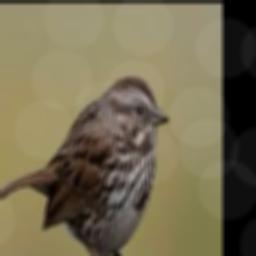Sparrow: (0, 76, 168, 256)
